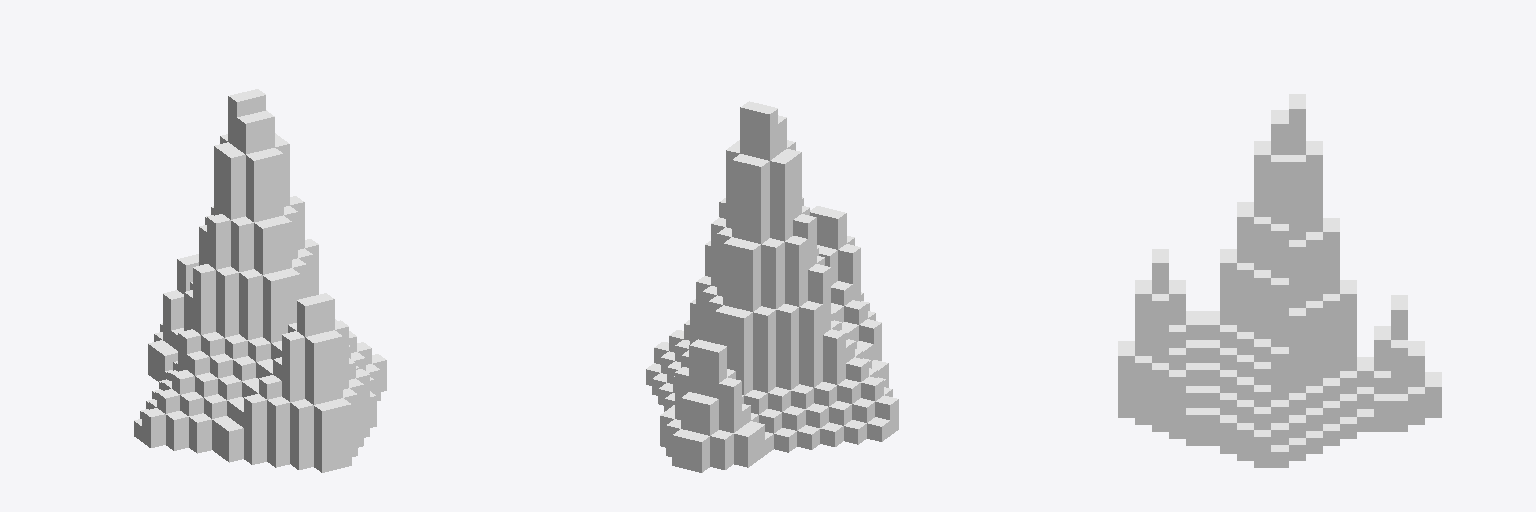
The model's file is Smol-Spike1.obj.
The picture shows the model from 3 angles: view 1: azimuth 30°, elevation 25°; view 2: azimuth 150°, elevation 25°; view 3: azimuth 270°, elevation 25°; orthographic projection.
Parts seen in each view (by area): view 1: object 1; view 2: object 1; view 3: object 1.
Boxes of the visible parts, x1=… form: object 1: x1=134, y1=89, x2=386, y2=472; object 1: x1=646, y1=101, x2=898, y2=472; object 1: x1=1118, y1=94, x2=1441, y2=467.
Bounding box in the file's own units: 1.6 × 2 × 1.9.